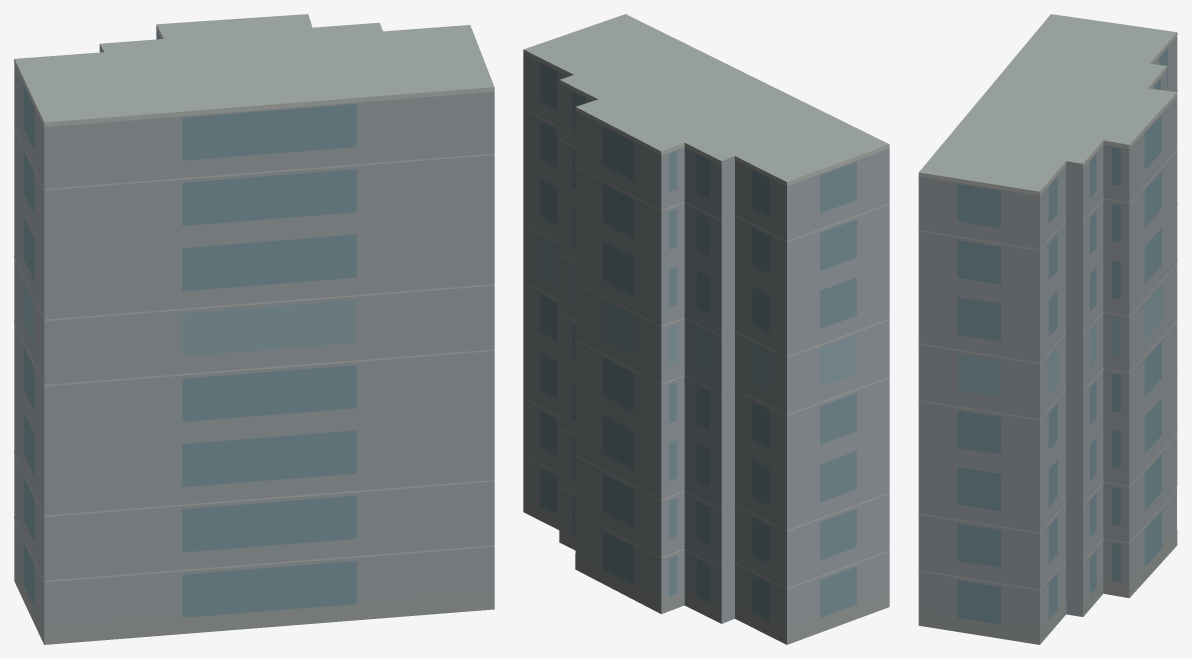
Rendered from survey-upis-32844305.glb.
3 renders of one model, left to right at view 1: azimuth 30°, elevation 25°; view 2: azimuth 150°, elevation 25°; view 3: azimuth 270°, elevation 25°, orthographic. The views are drawn at different scales.
Parts seen in each view (by area): view 1: survey-upis-32844305.tmp; view 2: survey-upis-32844305.tmp; view 3: survey-upis-32844305.tmp.
Boxes of the visible parts, box(x1,y1,x2,y2) form: survey-upis-32844305.tmp: box(14, 14, 494, 644); survey-upis-32844305.tmp: box(523, 14, 889, 644); survey-upis-32844305.tmp: box(918, 14, 1177, 644).
Size of the model in its own units: 22.47 by 26.7 by 13.83.
